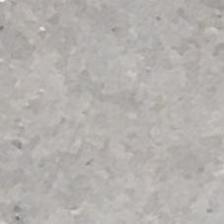Non_Crack: (57, 30, 217, 224)
